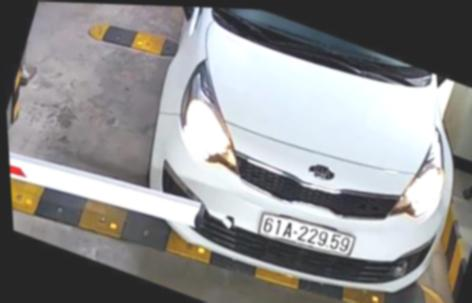License_Plate: (258, 208, 356, 264)
